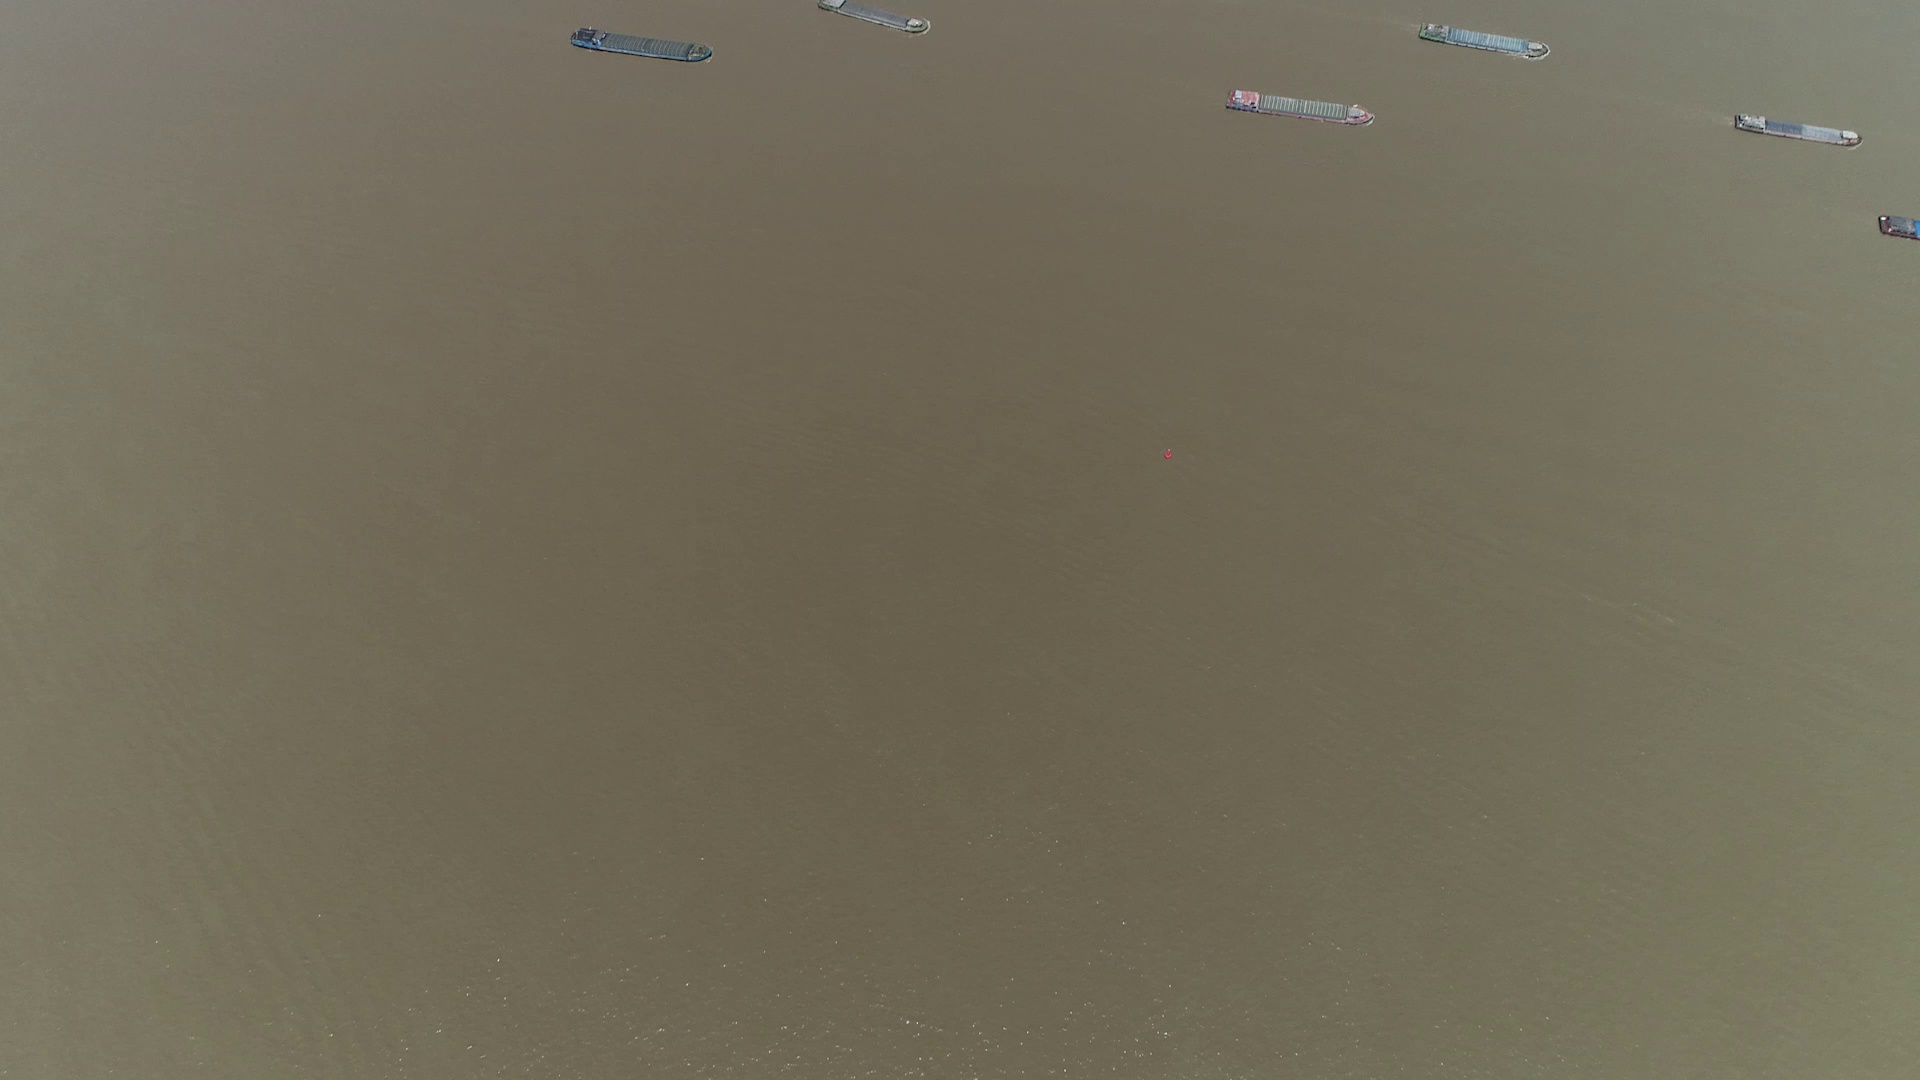ship: (568, 26, 713, 63), (1224, 91, 1374, 127), (1418, 22, 1549, 58), (822, 0, 928, 36), (1734, 113, 1861, 142), (1876, 212, 1919, 243)
